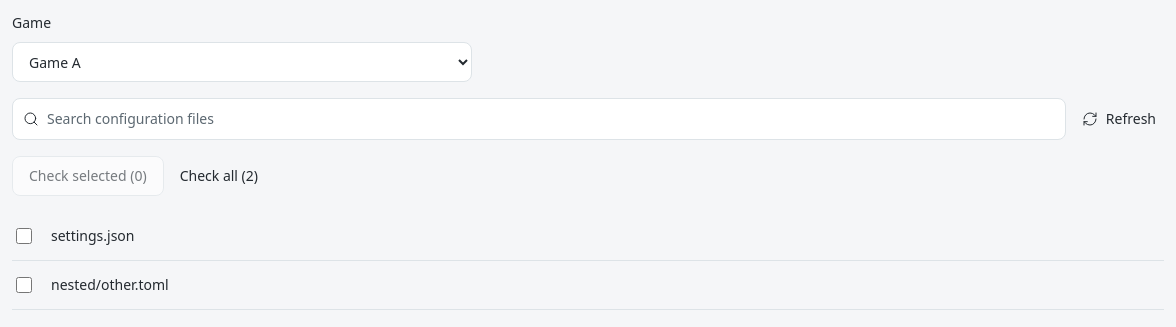
Test: automatically lists the explicit current game but checks a selected file only after user action
The width and height of the screenshot is (1176, 327).
Step 1. Click the checkbox named "Select settings.json" → (24, 236), box [16, 228, 32, 244]
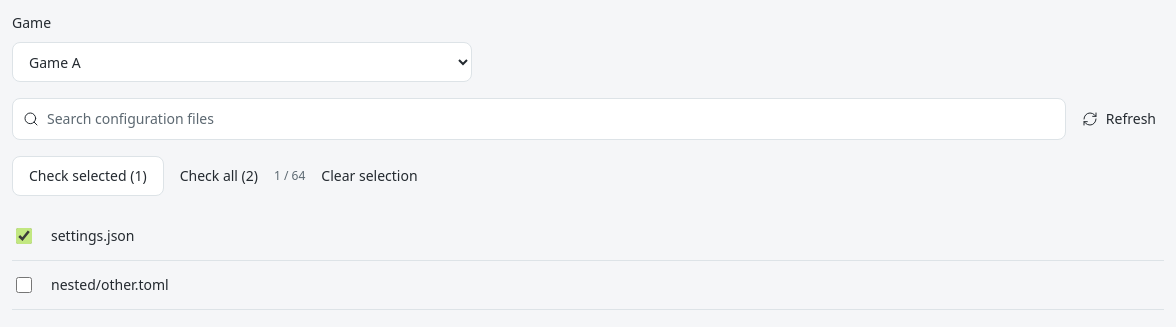
Step 2. Click the button "Check selected (1)" → (88, 176), box [12, 156, 164, 196]
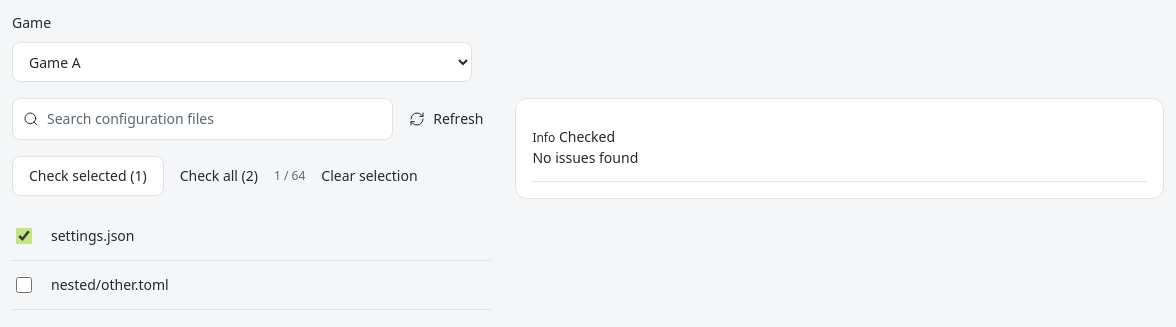
Expected: the text "No issues found" is shown, [532, 148, 638, 167]
